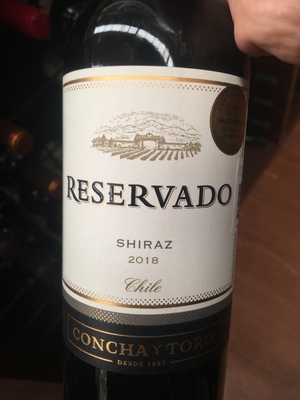reservado shiraz: (47, 14, 261, 400)
